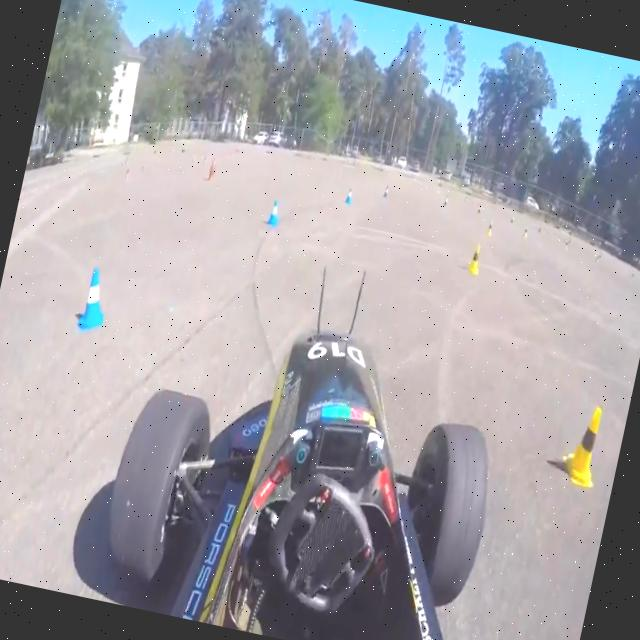blue_cone: (75, 264, 114, 336), (266, 198, 282, 228), (344, 187, 354, 204)
yellow_cone: (558, 401, 608, 488), (466, 243, 484, 275)
